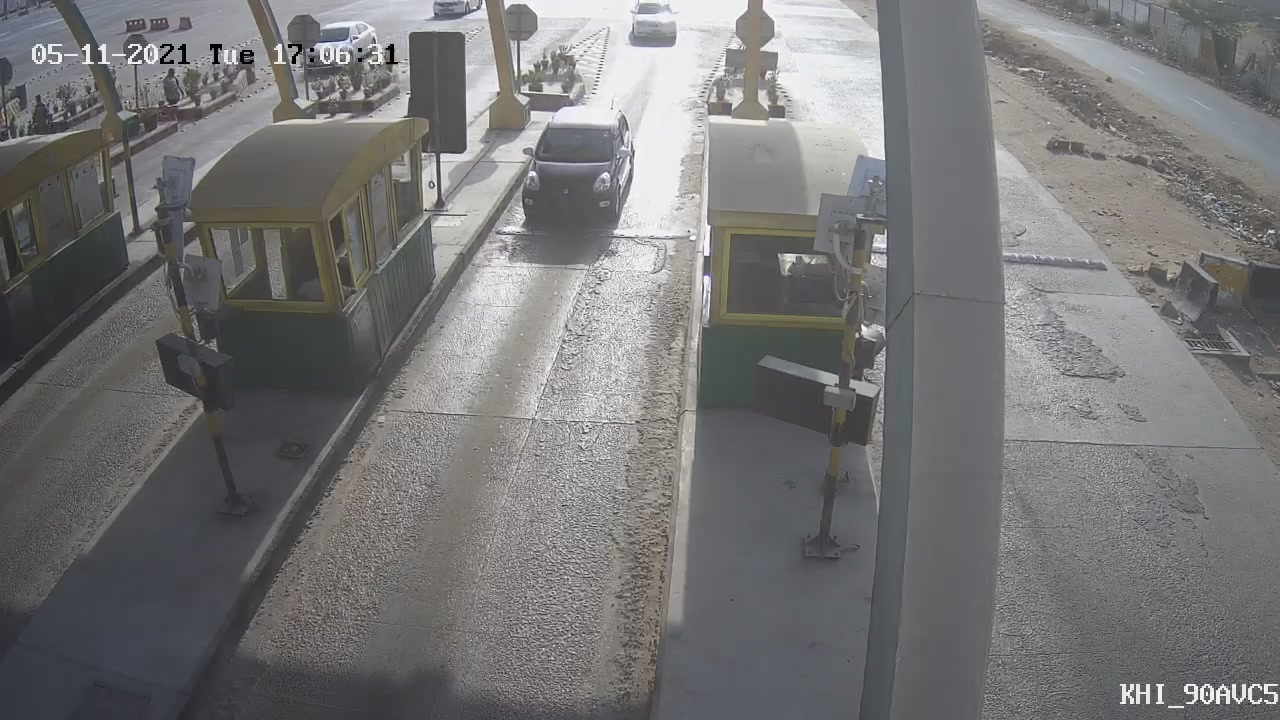F1: (498, 87, 655, 248)
